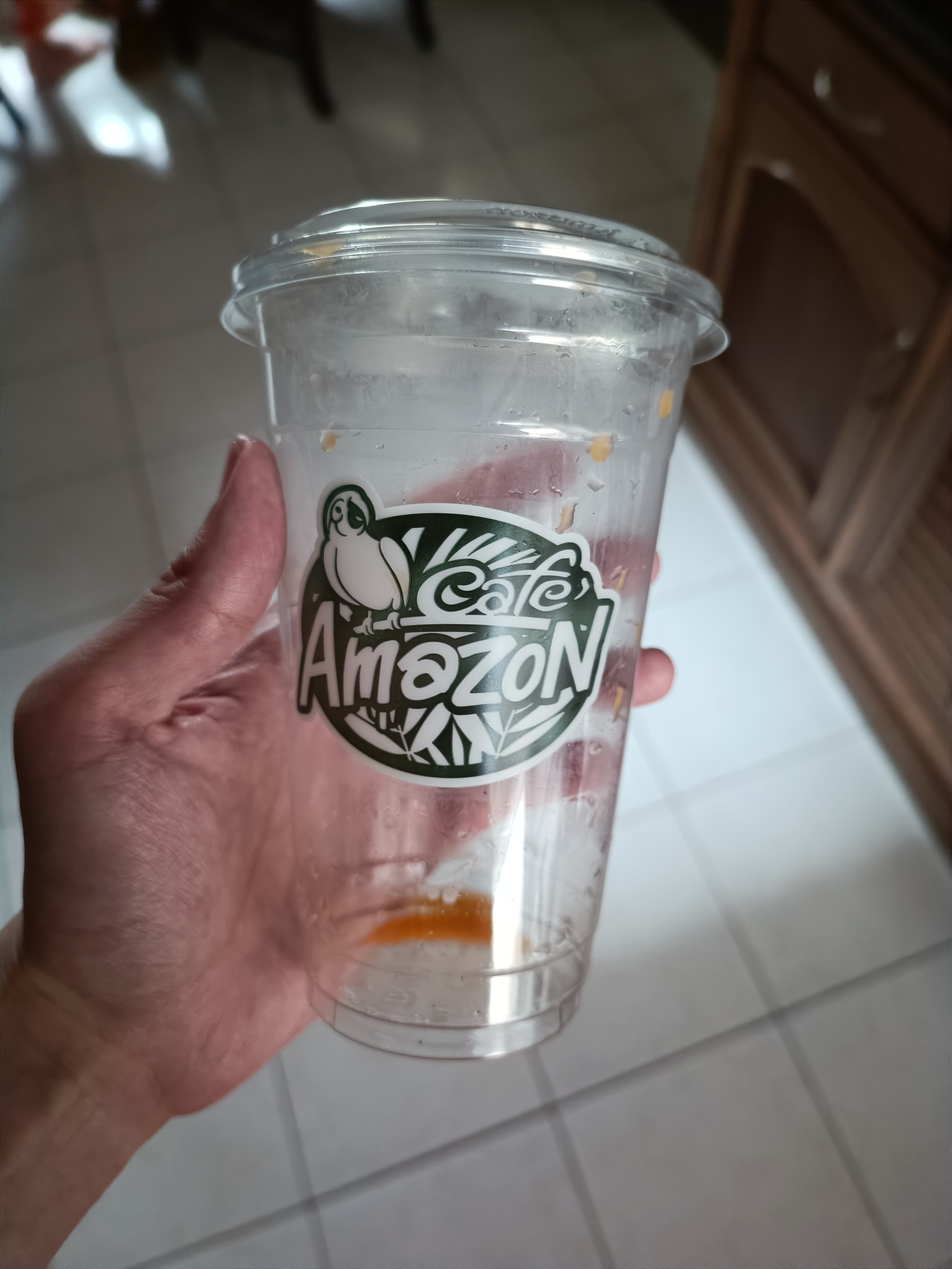plastic: (182, 190, 762, 1076)
